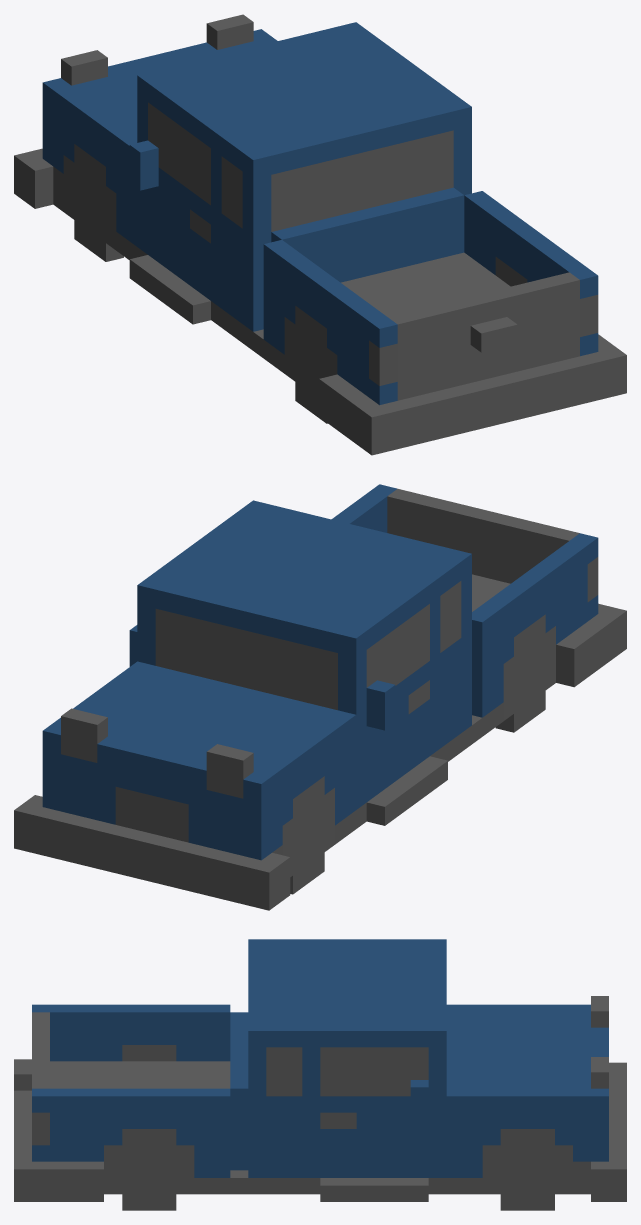
Rendered from veh_truck6.obj.
3 views of the same model, one above another, from view 1: azimuth 30°, elevation 25°; view 2: azimuth 150°, elevation 25°; view 3: azimuth 270°, elevation 25° (orthographic). The views are drawn at different scales.
Size of the model in its own units: 14 by 11 by 34.
